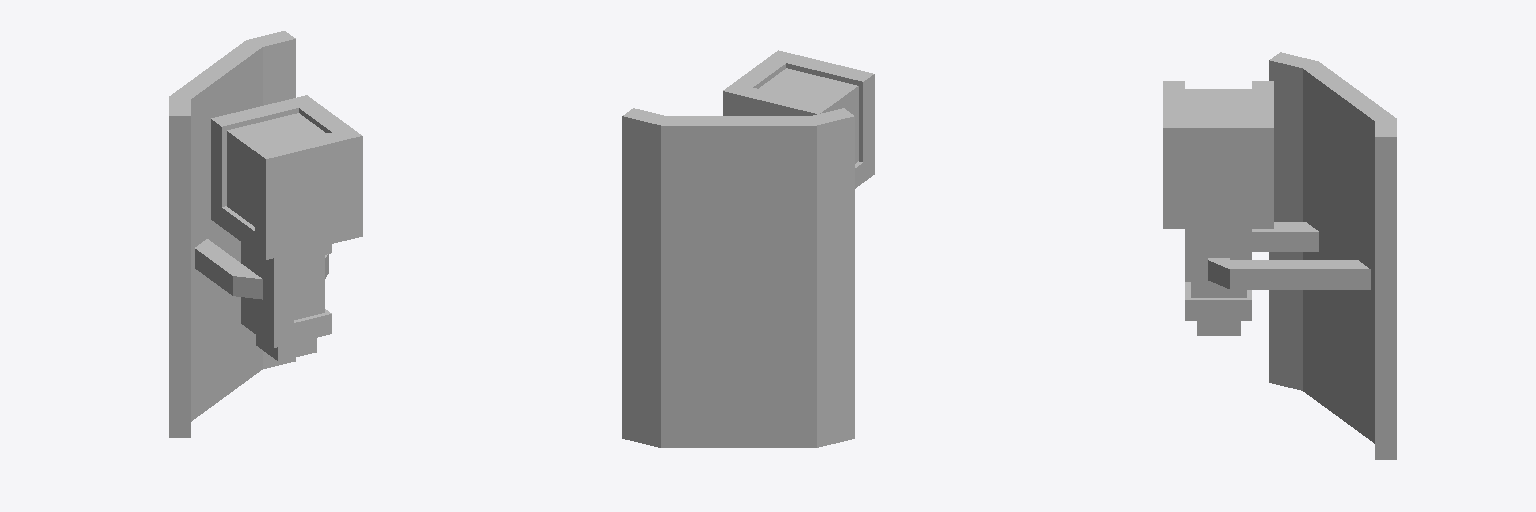
The model's file is arm_shield_l.obj.
3 views of the same model, side by side, from view 1: azimuth 30°, elevation 25°; view 2: azimuth 150°, elevation 25°; view 3: azimuth 270°, elevation 25° (orthographic).
Parts seen in each view (by area): view 1: ARM_LEFT_SHIELD_Cube.026; view 2: ARM_LEFT_SHIELD_Cube.026; view 3: ARM_LEFT_SHIELD_Cube.026.
Boxes of the visible parts, x1,y1,x2,y2 form: ARM_LEFT_SHIELD_Cube.026: [169, 31, 362, 437]; ARM_LEFT_SHIELD_Cube.026: [622, 50, 874, 447]; ARM_LEFT_SHIELD_Cube.026: [1163, 52, 1396, 459].
Size of the model in its own units: 0.5664 by 1 by 0.6562.